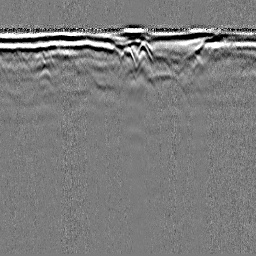cavity: (120, 46, 136, 66)
